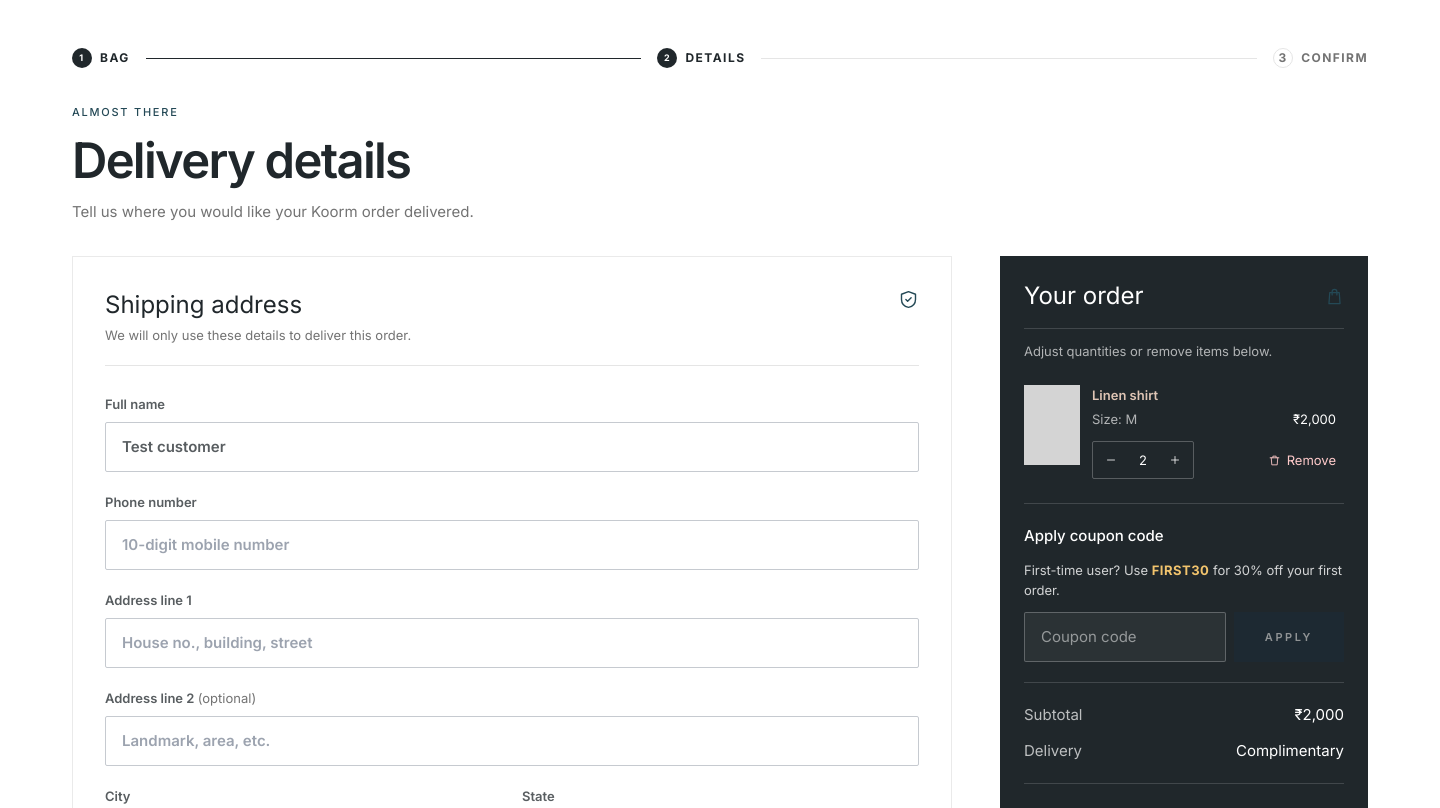
Test case: removes the selected size and shows an empty bag after the last removal
The image size is (1440, 808).
Click the button with aria-label "Remove Linen shirt, size M".
click(1302, 460)  # box [1268,442,1336,478]
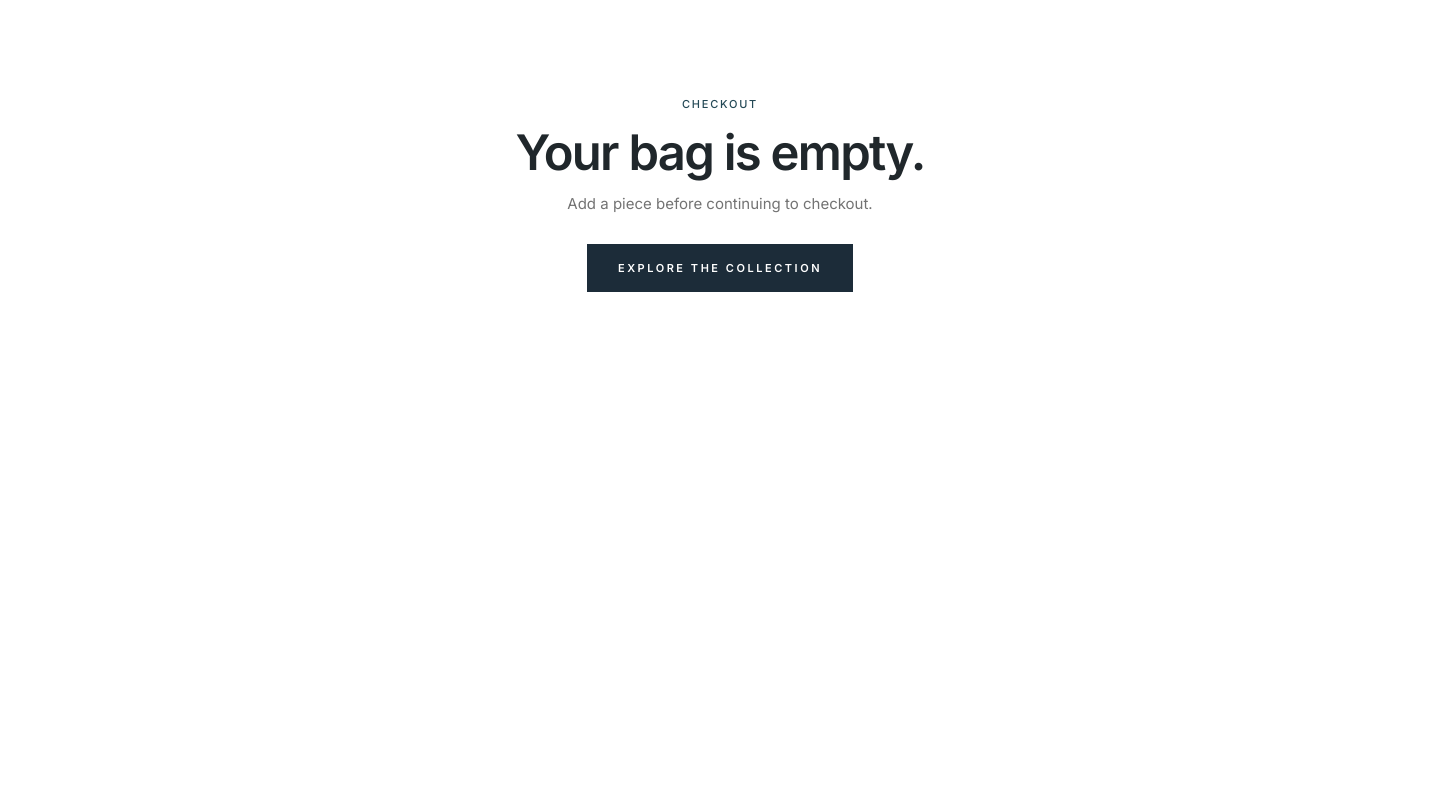
Expected: the heading "Your bag is empty." is shown, [515,123,925,182]
